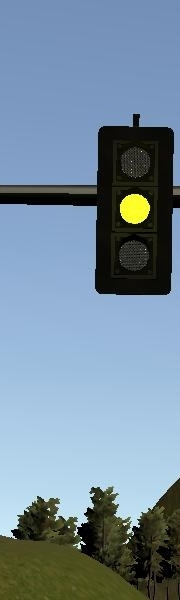Yellow: (95, 125, 173, 294)
